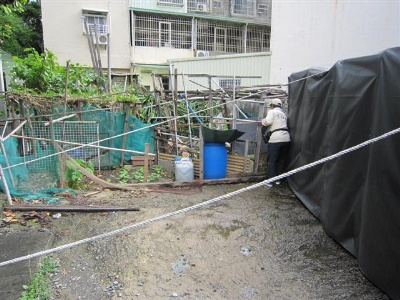bucket: (203, 141, 227, 178), (173, 156, 193, 182)
